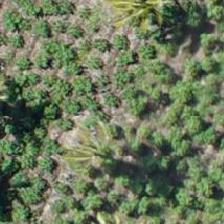coconut_tree: (52, 100, 142, 190), (105, 0, 195, 45)
